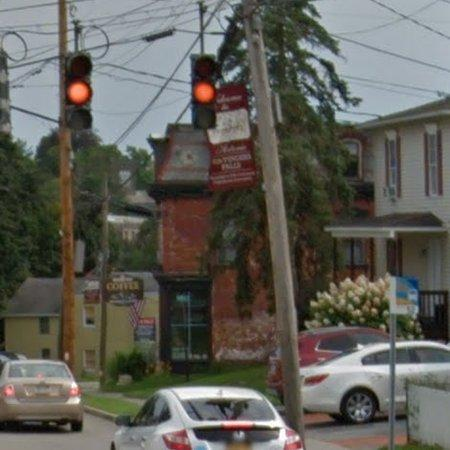traffic lights: (194, 102, 216, 129)
